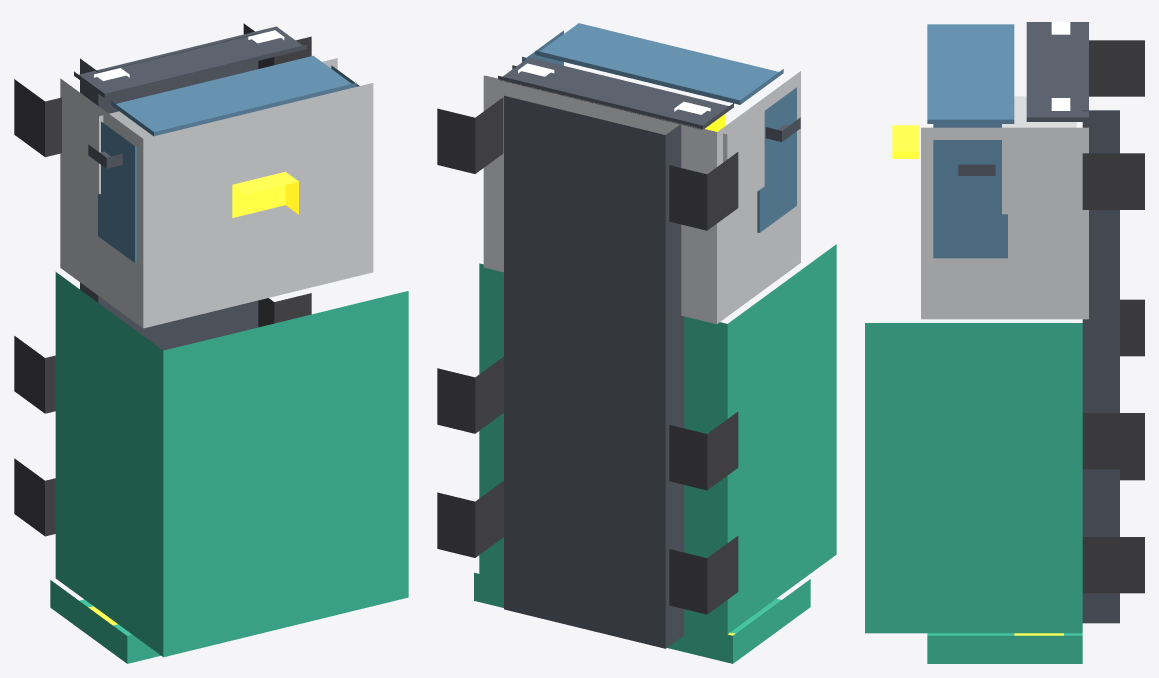
Rendered from truck.glb.
3 renders of one model, left to right at view 1: azimuth 30°, elevation 25°; view 2: azimuth 150°, elevation 25°; view 3: azimuth 270°, elevation 25°, orthographic.
Parts seen in each view (by area): view 1: mesh_0, mesh_1, mesh_2, mesh_3, mesh_4, mesh_5; view 2: mesh_3, mesh_0, mesh_4, mesh_1, mesh_2; view 3: mesh_0, mesh_1, mesh_3, mesh_2, mesh_4, mesh_5, mesh_6.
Boxes of the visible parts, x1,y1,x2,y2 form: mesh_0: [50, 272, 408, 663]; mesh_1: [60, 58, 373, 328]; mesh_2: [98, 55, 359, 262]; mesh_3: [74, 26, 307, 350]; mesh_4: [14, 23, 311, 536]; mesh_5: [88, 171, 298, 625]; mesh_3: [498, 57, 800, 648]; mesh_0: [474, 244, 836, 663]; mesh_4: [437, 97, 738, 614]; mesh_1: [483, 71, 800, 324]; mesh_2: [522, 23, 796, 232]; mesh_0: [865, 323, 1082, 663]; mesh_1: [921, 96, 1088, 319]; mesh_3: [958, 22, 1119, 623]; mesh_2: [927, 24, 1014, 258]; mesh_4: [1082, 40, 1144, 593]; mesh_5: [892, 125, 1063, 635]; mesh_6: [1051, 21, 1070, 110].
Size of the model in its own units: 2.5 by 4.76 by 2.25.
